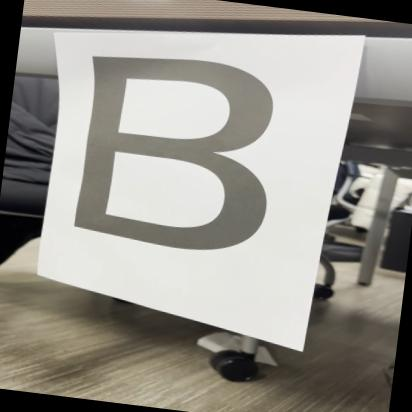seat: (57, 43, 307, 271)
